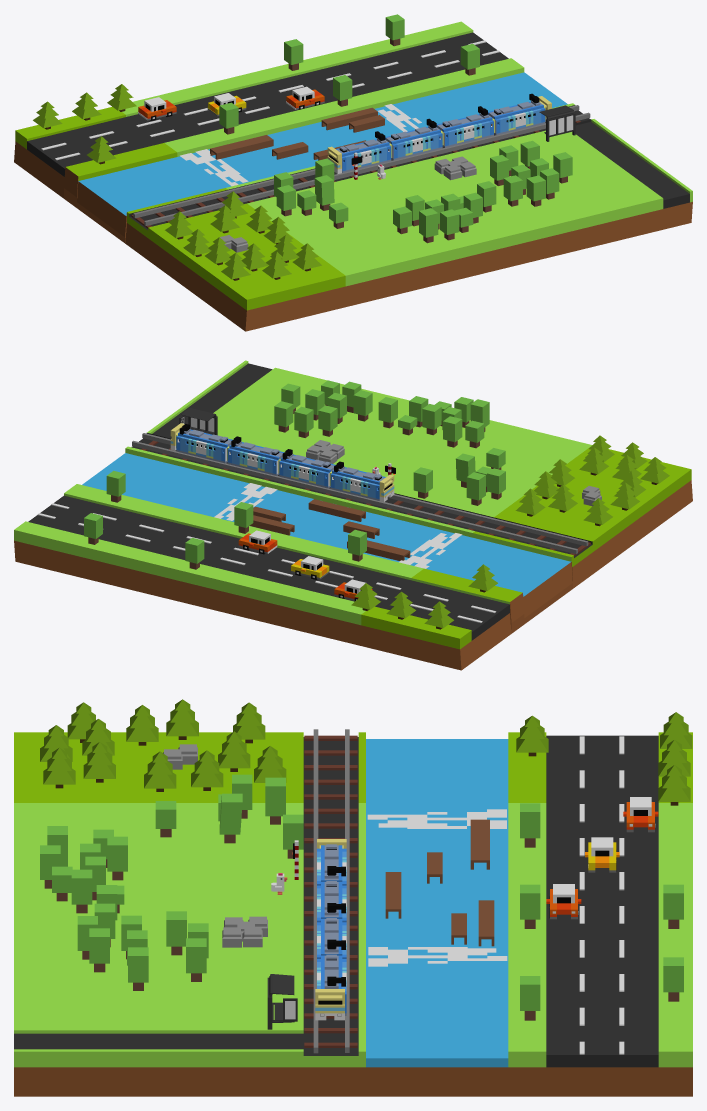
Rendered from crossy road SCENE 2.dae.
3 renders of one model, top to bottom at view 1: azimuth 30°, elevation 25°; view 2: azimuth 150°, elevation 25°; view 3: azimuth 270°, elevation 25°, orthographic. The views are drawn at different scales.
Parts seen in each view (by area): view 1: Floor, Cube.035, Branch, Cube.032, Cube.031, Cube.033, Cube.074, Plane, Cube.028, Cube.020, Cube.008, Cube.034 (+10 smaller); view 2: Floor, Cube.035, Cube.033, Branch, Cube.032, Cube.031, Cube.034, Plane, Cube.074, Plane.001, Cube.025, Cube.020 (+16 smaller); view 3: Floor, Cube.035, Cube.034, Branch, Cube.031, Plane.001, Plane, Cube.032, Cube.033, Cube.074, Cube.015, Cube.061 (+37 smaller).
Part boxes in pixels (bbox=[...]): Floor: bbox=[14, 21, 692, 331]; Cube.035: bbox=[336, 93, 545, 172]; Branch: bbox=[210, 107, 384, 160]; Cube.032: bbox=[144, 112, 590, 225]; Cube.031: bbox=[41, 40, 499, 160]; Cube.033: bbox=[133, 105, 579, 218]; Cube.074: bbox=[539, 105, 575, 141]; Plane: bbox=[180, 149, 248, 186]; Cube.028: bbox=[138, 97, 176, 120]; Cube.020: bbox=[286, 86, 324, 109]; Cube.008: bbox=[419, 208, 438, 243]; Cube.034: bbox=[131, 120, 580, 228]; Floor: bbox=[14, 360, 692, 670]; Cube.035: bbox=[176, 424, 385, 500]; Cube.033: bbox=[132, 440, 577, 554]; Branch: bbox=[249, 499, 410, 560]; Cube.032: bbox=[142, 433, 588, 546]; Cube.031: bbox=[37, 503, 496, 622]; Cube.034: bbox=[141, 440, 590, 556]; Plane: bbox=[399, 533, 462, 568]; Cube.074: bbox=[179, 407, 217, 435]; Plane.001: bbox=[214, 483, 277, 520]; Cube.025: bbox=[291, 556, 329, 579]; Cube.020: bbox=[238, 530, 277, 553]; Floor: bbox=[14, 732, 692, 1096]; Cube.035: bbox=[317, 844, 346, 1015]; Cube.034: bbox=[304, 735, 357, 1047]; Branch: bbox=[385, 819, 494, 946]; Cube.031: bbox=[579, 736, 624, 1054]; Plane.001: bbox=[368, 947, 507, 966]; Plane: bbox=[367, 809, 506, 828]; Cube.032: bbox=[313, 729, 318, 1053]; Cube.033: bbox=[345, 729, 349, 1052]; Cube.074: bbox=[267, 974, 297, 1029]; Cube.015: bbox=[219, 793, 242, 843]; Cube.061: bbox=[144, 751, 176, 791].
Size of the model in its own units: 95.92 by 85.94 by 12.43.
